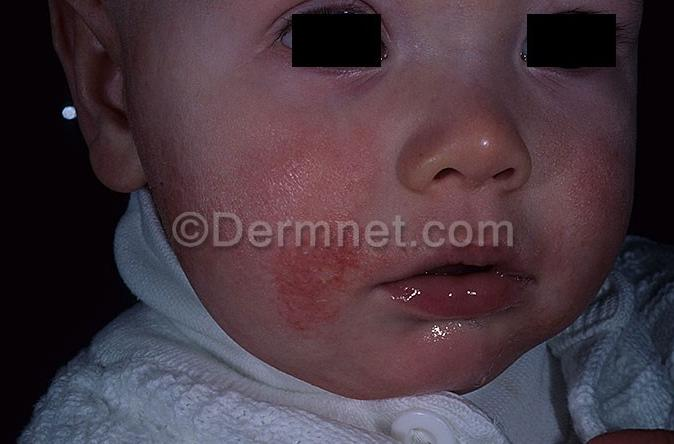Eritema 2: (273, 221, 363, 334)
xerosis 1: (189, 136, 364, 245), (534, 117, 629, 233)
